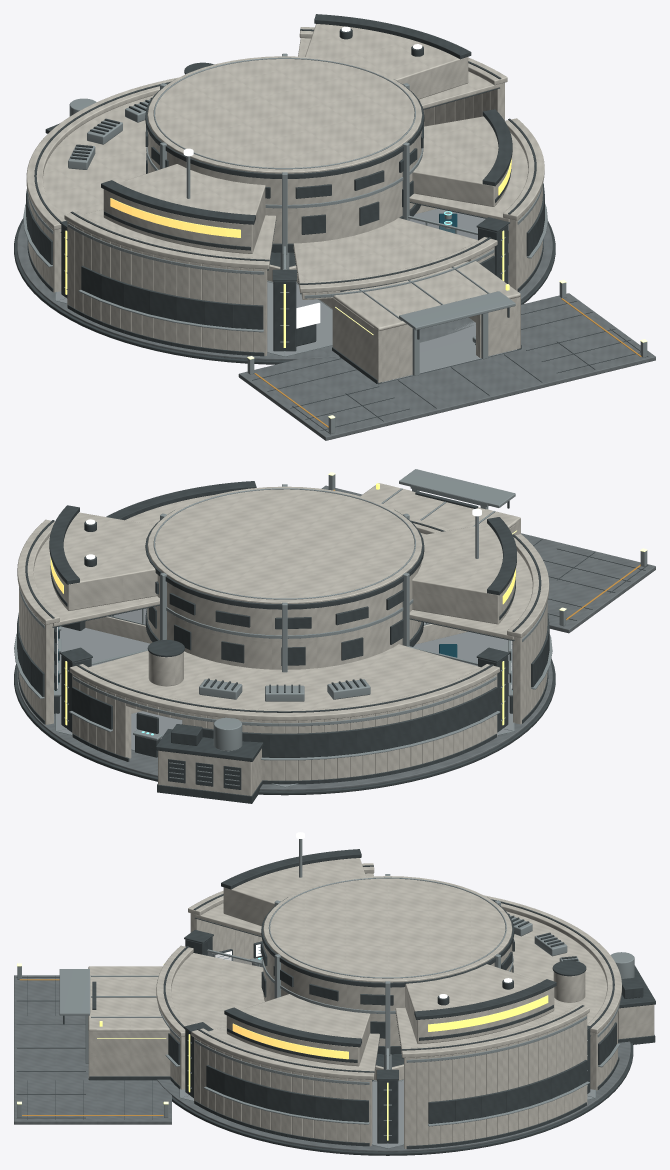
Rendered from hq-shell.a3ff4c6342a3.glb.
3 views of the same model, one above another, from view 1: azimuth 30°, elevation 25°; view 2: azimuth 150°, elevation 25°; view 3: azimuth 270°, elevation 25° (orthographic). The views are drawn at different scales.
Parts seen in each view (by area): view 1: MF_Roof__structure_ivory_ceramic, MF_BaseFixed__structure_ivory_ceramic, MF_Court__court_weathered_basalt, MF_BaseFixed__structure_graphite_joints, MF_Roof__structure_graphite_joints, MF_ShellCutaway_FrontFlats__structure_ivory_ceramic, MF_Roof__brushed_titanium, MF_BaseFixed__court_weathered_basalt, MF_Interior_dispatch__room_inlay_dispatch, MF_BaseFixed__brushed_titanium, MF_ShellCutaway_FrontFlats__structure_graphite_joints, MF_ShellCutaway_FrontFlats__brushed_titanium (+4 smaller); view 2: MF_Roof__structure_ivory_ceramic, MF_BaseFixed__structure_ivory_ceramic, MF_BaseFixed__structure_graphite_joints, MF_Roof__structure_graphite_joints, MF_Roof__brushed_titanium, MF_Court__court_weathered_basalt, MF_BaseFixed__court_weathered_basalt, MF_BaseFixed__brushed_titanium, MF_Interior_review__room_inlay_review, MF_Interior_planning__room_inlay_planning, MF_Interior_implementation__structure_graphite_joints, MF_Interior_implementation__room_inlay_implementation (+2 smaller); view 3: MF_Roof__structure_ivory_ceramic, MF_BaseFixed__structure_ivory_ceramic, MF_ShellCutaway_FrontFlats__structure_ivory_ceramic, MF_Court__court_weathered_basalt, MF_BaseFixed__structure_graphite_joints, MF_Roof__structure_graphite_joints, MF_ShellCutaway_FrontFlats__structure_graphite_joints, MF_Roof__brushed_titanium, MF_BaseFixed__court_weathered_basalt, MF_Roof__practical_warm_window_glass, MF_BaseFixed__brushed_titanium, MF_ShellCutaway_FrontFlats__brushed_titanium (+1 smaller).
Part boxes in pixels (x1,y1,x2,y2): MF_Roof__structure_ivory_ceramic: (43,24,528,330); MF_BaseFixed__structure_ivory_ceramic: (26,27,507,382); MF_Court__court_weathered_basalt: (238,293,655,440); MF_BaseFixed__structure_graphite_joints: (14,29,555,384); MF_Roof__structure_graphite_joints: (60,14,512,339); MF_ShellCutaway_FrontFlats__structure_ivory_ceramic: (299,118,544,381); MF_Roof__brushed_titanium: (68,53,515,330); MF_BaseFixed__court_weathered_basalt: (17,221,552,360); MF_Interior_dispatch__room_inlay_dispatch: (382,321,516,382); MF_BaseFixed__brushed_titanium: (23,193,505,342); MF_ShellCutaway_FrontFlats__structure_graphite_joints: (299,118,544,348); MF_ShellCutaway_FrontFlats__brushed_titanium: (304,184,547,375); MF_Roof__structure_ivory_ceramic: (33,483,532,709); MF_BaseFixed__structure_ivory_ceramic: (17,519,549,795); MF_BaseFixed__structure_graphite_joints: (14,520,555,803); MF_Roof__structure_graphite_joints: (49,481,516,745); MF_Roof__brushed_titanium: (153,469,515,751); MF_Court__court_weathered_basalt: (321,485,655,633); MF_BaseFixed__court_weathered_basalt: (17,663,552,790); MF_BaseFixed__brushed_titanium: (14,587,552,786); MF_Interior_review__room_inlay_review: (56,626,149,730); MF_Interior_planning__room_inlay_planning: (413,631,513,730); MF_Interior_implementation__structure_graphite_joints: (135,712,160,757); MF_Interior_implementation__room_inlay_implementation: (58,711,510,787); MF_Roof__structure_ivory_ceramic: (88,858,606,1070); MF_BaseFixed__structure_ivory_ceramic: (188,863,654,1148); MF_ShellCutaway_FrontFlats__structure_ivory_ceramic: (88,945,374,1146); MF_Court__court_weathered_basalt: (14,975,171,1124); MF_BaseFixed__structure_graphite_joints: (88,865,655,1155); MF_Roof__structure_graphite_joints: (63,849,643,1081); MF_ShellCutaway_FrontFlats__structure_graphite_joints: (89,946,374,1146); MF_Roof__brushed_titanium: (59,839,634,1055); MF_BaseFixed__court_weathered_basalt: (157,1041,630,1151); MF_Roof__practical_warm_window_glass: (232,995,548,1059); MF_BaseFixed__brushed_titanium: (187,1000,620,1135); MF_ShellCutaway_FrontFlats__brushed_titanium: (85,975,369,1124).
Size of the model in its own units: 35.5 by 12.31 by 46.37.
20 materials, 3 textured.
